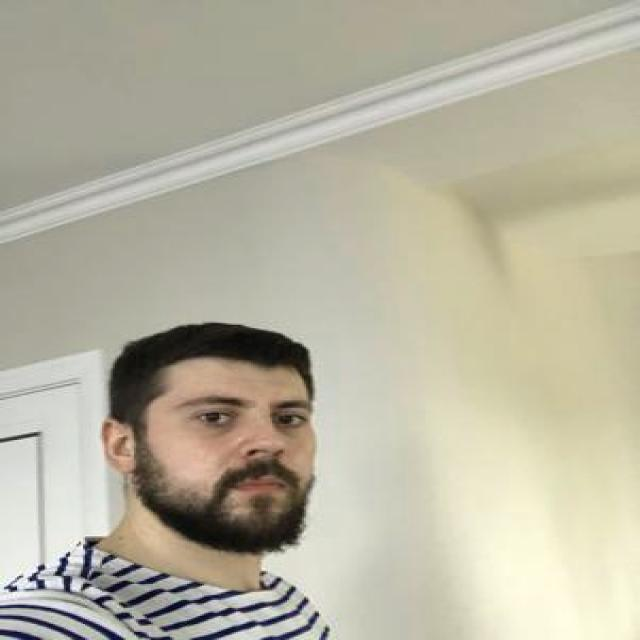face_nomask: (160, 376, 314, 557)
head_nohelmet: (117, 303, 302, 372)
person: (25, 297, 395, 640)
